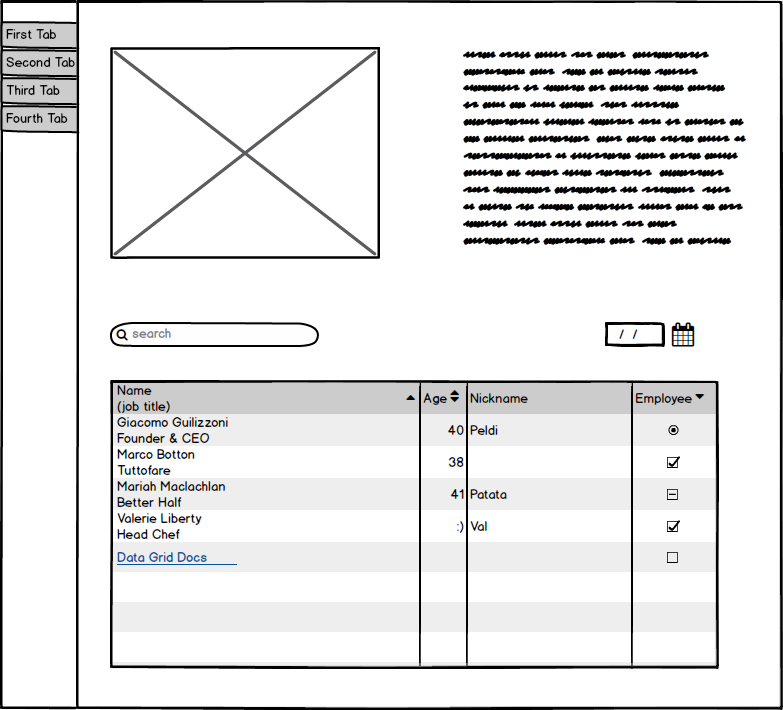date_picker: (595, 317, 701, 354)
image: (105, 43, 387, 264)
p: (460, 43, 755, 252)
search: (103, 318, 322, 352)
sidebar: (3, 10, 84, 137)
table: (103, 375, 726, 676)
